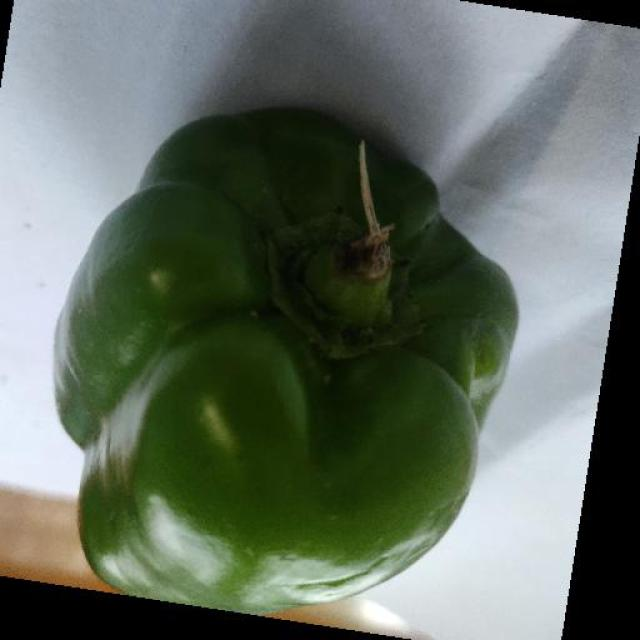Fresh_Capsicum: (178, 160, 495, 541)
